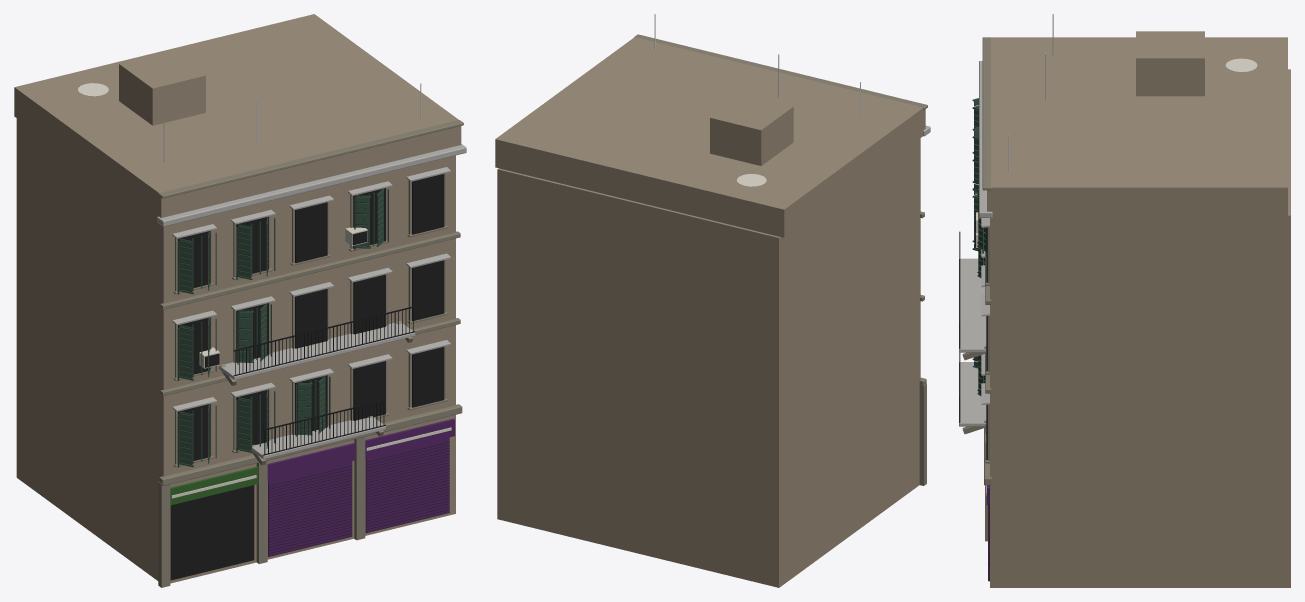
File: KIT_BLDG_A.glb
The picture shows the model from 3 angles, left to right: view 1: azimuth 30°, elevation 25°; view 2: azimuth 150°, elevation 25°; view 3: azimuth 270°, elevation 25°; orthographic projection. The views are drawn at different scales.
Visible parts, largest first — view 1: KIT_BLDG_A; view 2: KIT_BLDG_A; view 3: KIT_BLDG_A.
Boxes of the visible parts, x1=… form: KIT_BLDG_A: x1=14, y1=14, x2=466, y2=587; KIT_BLDG_A: x1=495, y1=14, x2=930, y2=587; KIT_BLDG_A: x1=959, y1=14, x2=1290, y2=587.
Bounding box in the file's own units: 11.94 × 16.42 × 11.03.
